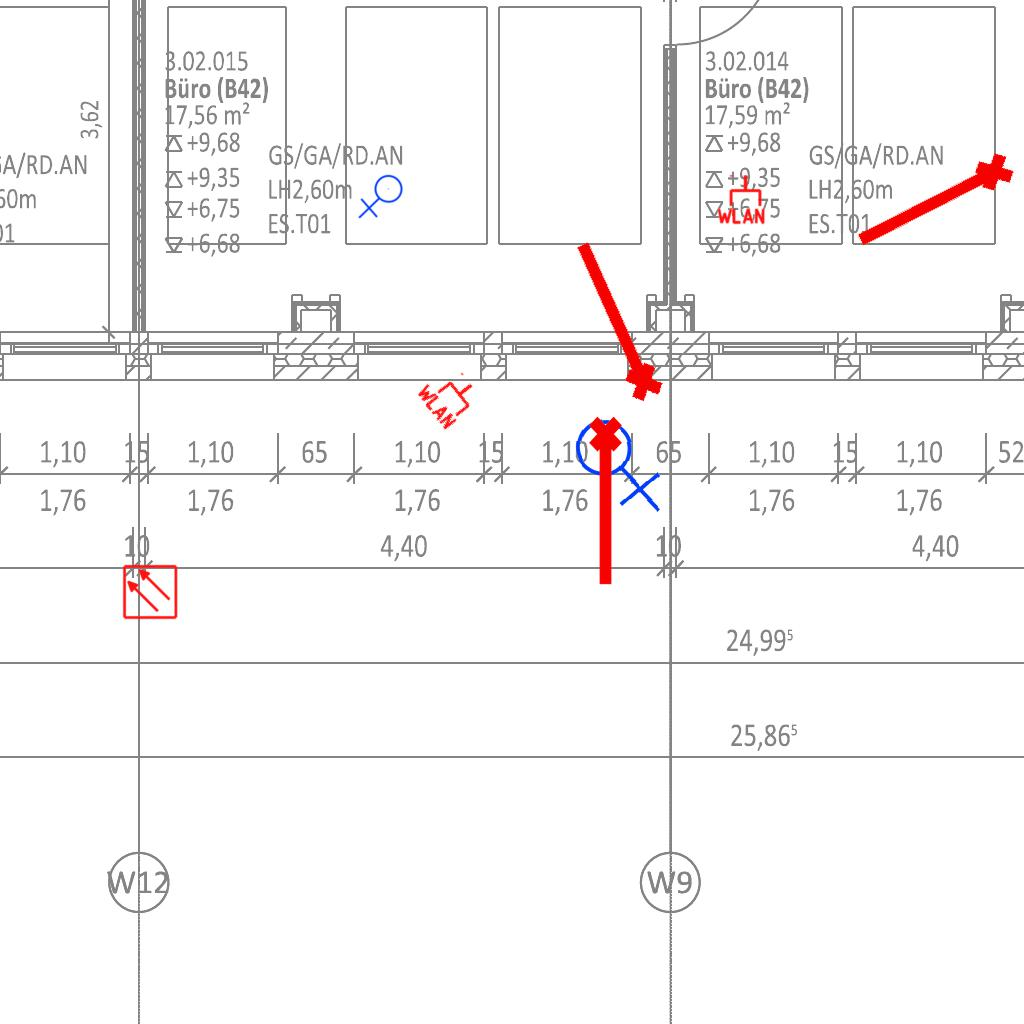ASR_Ansaugoeffnung: (846, 144, 1024, 266), (557, 231, 671, 411), (585, 414, 631, 590)
Elektroanschluss_allgemein_230V_Geraeteanschlussdose_230V: (570, 409, 671, 513), (358, 174, 407, 221)
RMO_Rauchmelder_optischer: (122, 564, 178, 620)
WLAN: (413, 359, 487, 433), (715, 173, 767, 225)
